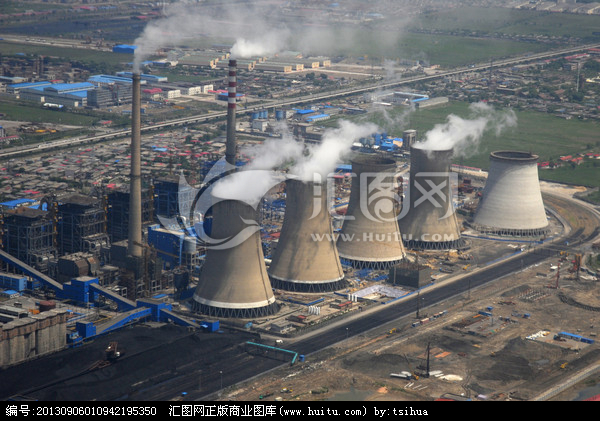dust: (174, 145, 290, 207), (270, 120, 363, 187), (402, 104, 504, 160), (210, 14, 322, 63), (111, 17, 201, 74)
